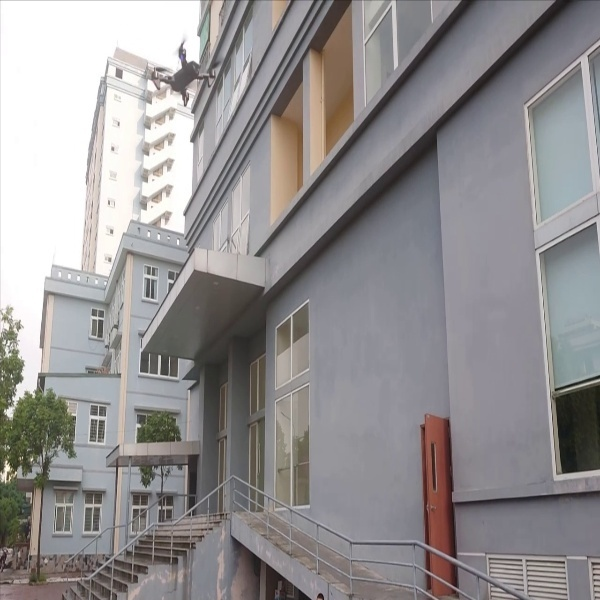drone: (146, 34, 229, 112)
